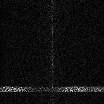wifi: (1, 86, 104, 91)
